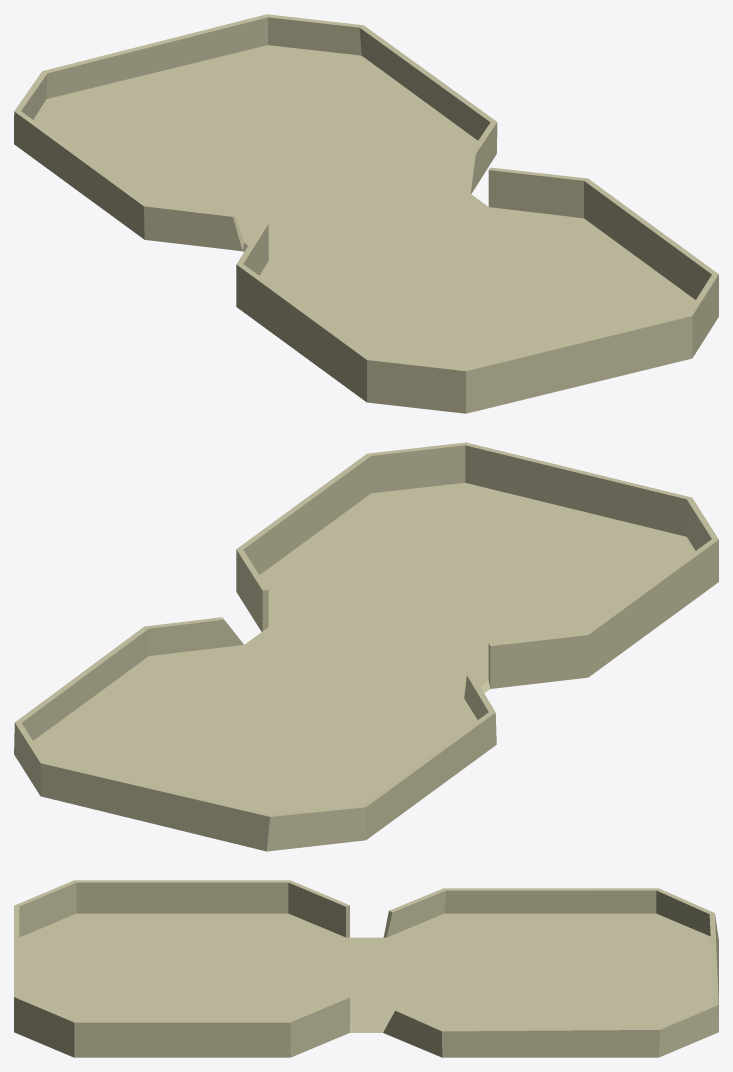
Rendered from Misc_PizzaBox_01.fbx.
3 renders of one model, top to bottom at view 1: azimuth 30°, elevation 25°; view 2: azimuth 150°, elevation 25°; view 3: azimuth 270°, elevation 25°, orthographic. The views are drawn at different scales.
Visible parts, largest first — view 1: Misc_PizzaBox_01.001; view 2: Misc_PizzaBox_01.001; view 3: Misc_PizzaBox_01.001.
Part boxes in pixels (left/top/right/bottom): Misc_PizzaBox_01.001: left=14, top=14, right=718, bottom=413; Misc_PizzaBox_01.001: left=14, top=442, right=718, bottom=851; Misc_PizzaBox_01.001: left=14, top=880, right=718, bottom=1057.
Size of the model in its own units: 0.3464 by 0.0402 by 0.724.
